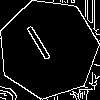I: (23, 24, 59, 70)
